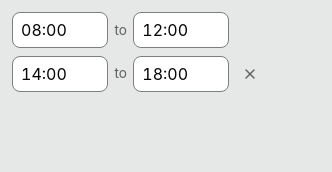
it: DayPeriods — split days on the Working Hours screen › removes the second period again
Click the button named "Remove Monday’s second period" at x=250, y=74, box [236,60,264,88]
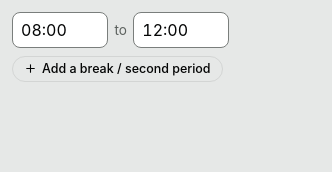
expect the button with aria-label "Add a break / second period on Monday" is shown: met, box [12,56,223,82]
